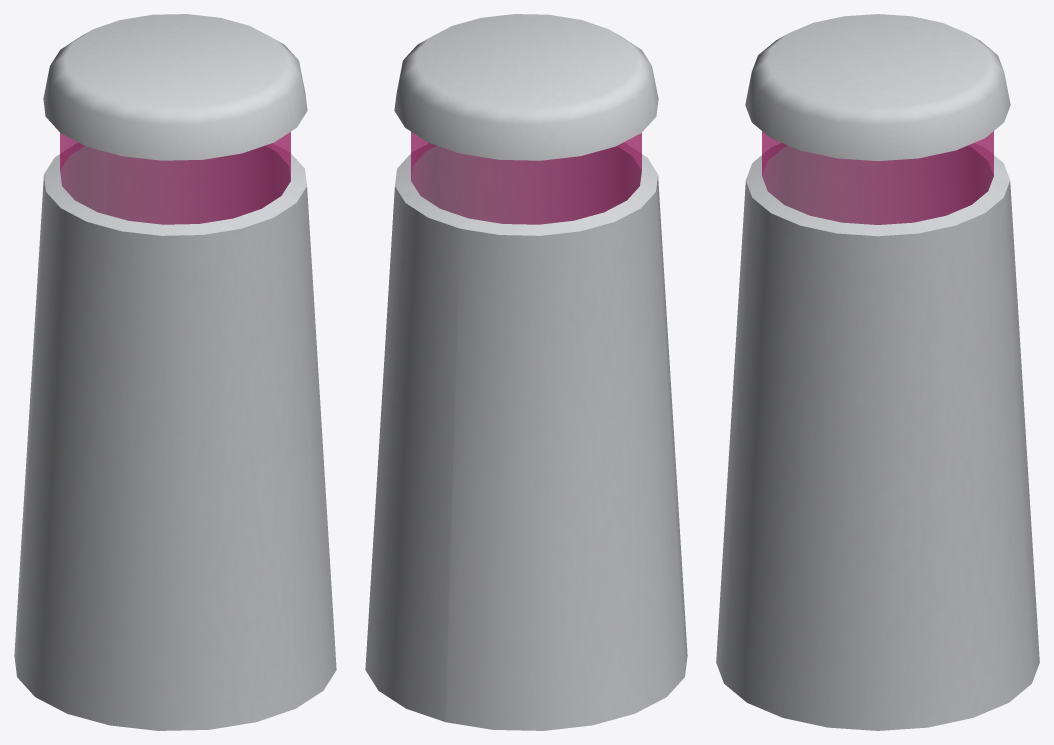
File: beam01.fbx
The picture shows the model from 3 angles, left to right: view 1: azimuth 30°, elevation 25°; view 2: azimuth 150°, elevation 25°; view 3: azimuth 270°, elevation 25°; orthographic projection.
Visible parts, largest first — view 1: polySurface48, polySurface47; view 2: polySurface48, polySurface47; view 3: polySurface48, polySurface47.
Part boxes in pixels (<box>): polySurface48: <box>14,14,336,730</box>; polySurface47: <box>60,132,290,224</box>; polySurface48: <box>365,14,687,730</box>; polySurface47: <box>411,132,641,224</box>; polySurface48: <box>716,14,1039,730</box>; polySurface47: <box>762,131,993,224</box>.
Size of the model in its own units: 10.51 by 21.55 by 10.51.
